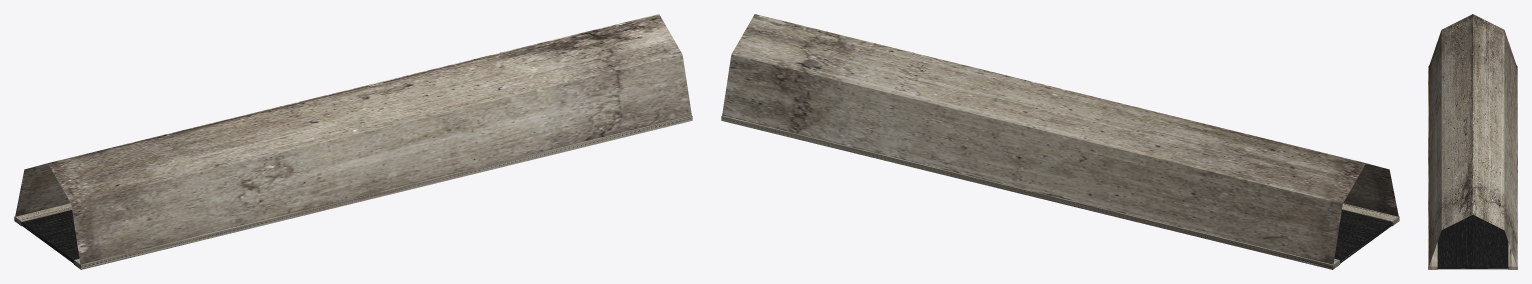
File: road_tunnel.glb
The picture shows the model from 3 angles, left to right: view 1: azimuth 30°, elevation 25°; view 2: azimuth 150°, elevation 25°; view 3: azimuth 270°, elevation 25°; orthographic projection. The views are drawn at different scales.
Parts seen in each view (by area): view 1: Tunnel_top, Banqueta.001, Road, Banqueta; view 2: Tunnel_top, Banqueta, Road, Banqueta.001; view 3: Tunnel_top, Road, Banqueta, Banqueta.001.
Boxes of the visible parts, x1=… form: Tunnel_top: x1=15, y1=14, x2=691, y2=264; Banqueta.001: x1=74, y1=115, x2=692, y2=269; Road: x1=21, y1=210, x2=79, y2=263; Banqueta: x1=14, y1=203, x2=71, y2=226; Tunnel_top: x1=722, y1=14, x2=1398, y2=264; Banqueta: x1=721, y1=115, x2=1339, y2=269; Road: x1=1334, y1=210, x2=1392, y2=263; Banqueta.001: x1=1342, y1=203, x2=1399, y2=226; Tunnel_top: x1=1429, y1=14, x2=1516, y2=265; Road: x1=1437, y1=215, x2=1508, y2=269; Banqueta: x1=1508, y1=66, x2=1517, y2=269; Banqueta.001: x1=1428, y1=66, x2=1437, y2=269.
Size of the model in its own units: 40 by 5.15 by 7.56.
2 materials, 2 textured.
